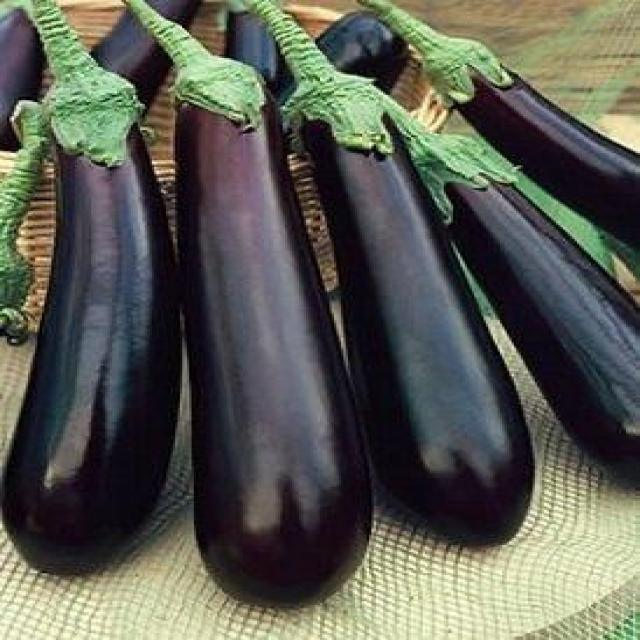eggplant: (238, 0, 535, 548), (125, 0, 374, 610)
